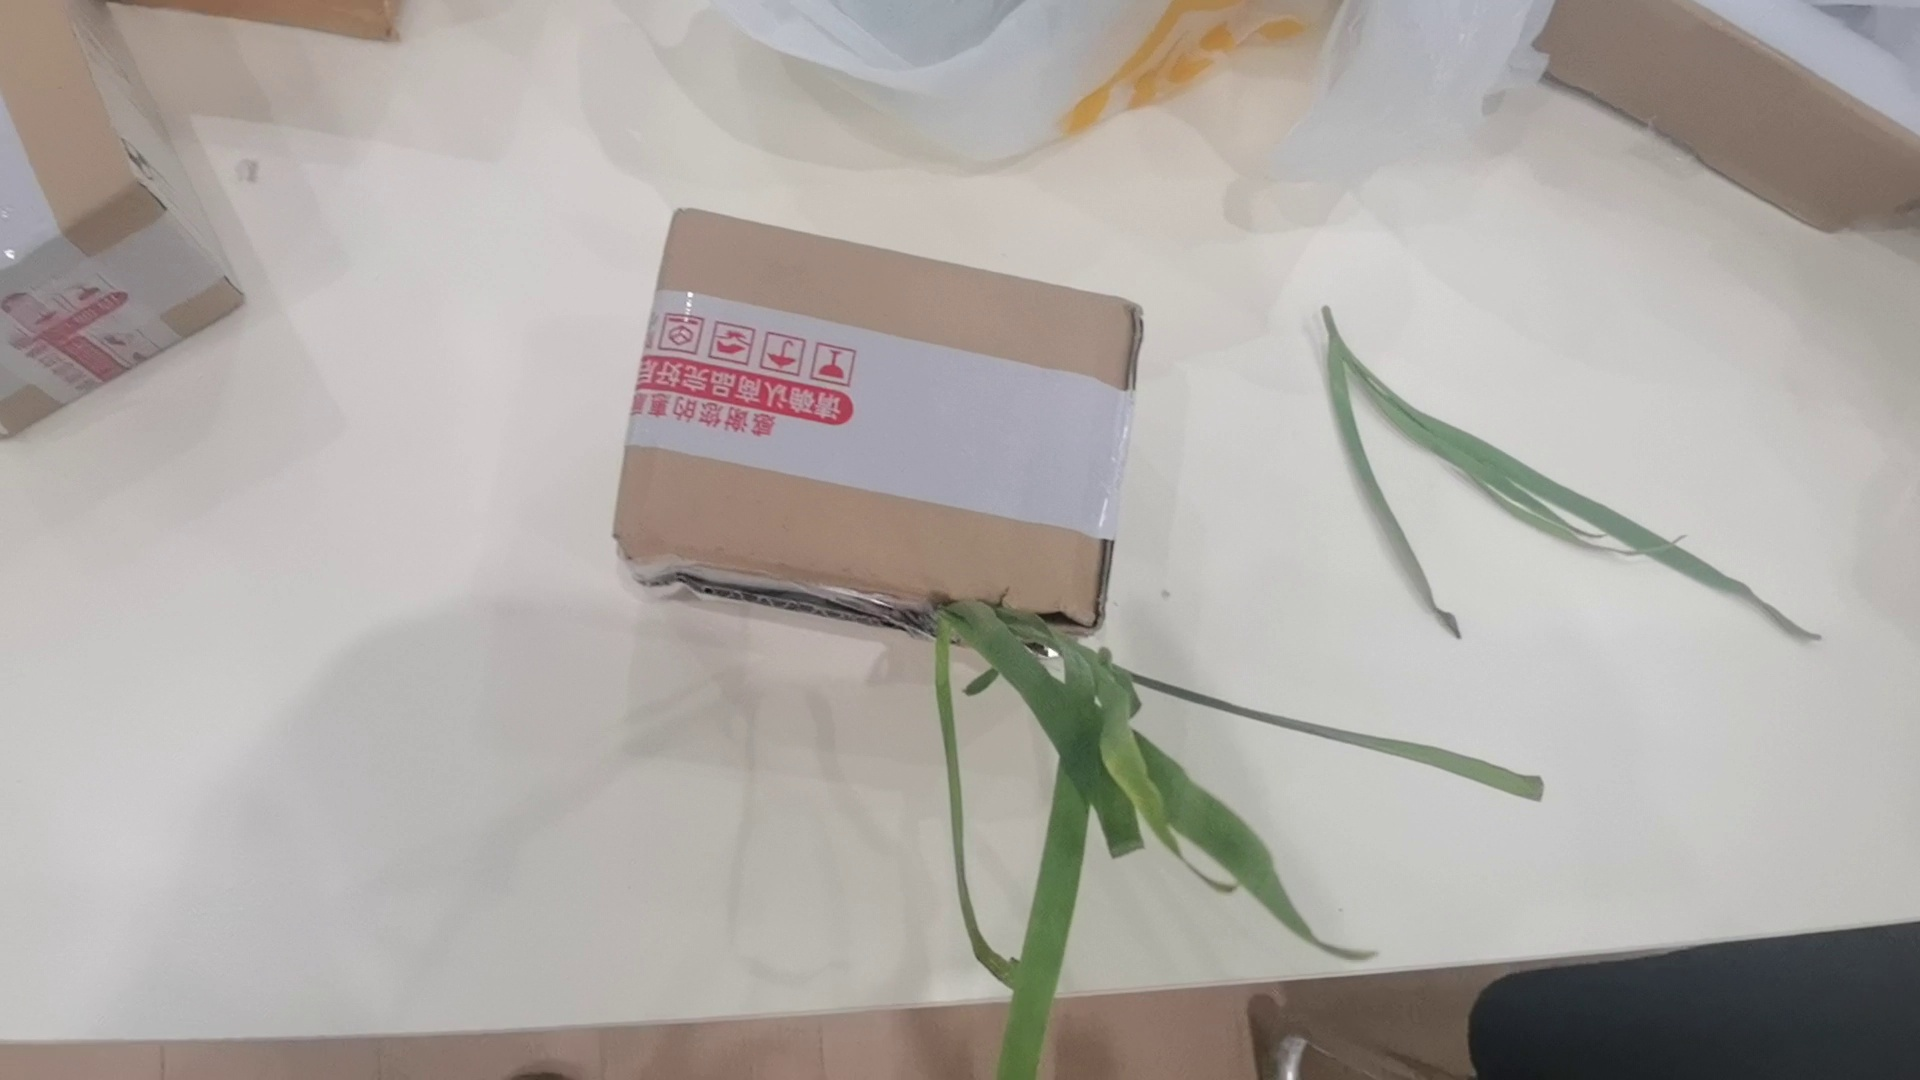chives: (814, 589, 1647, 1080), (1298, 287, 1867, 673)
